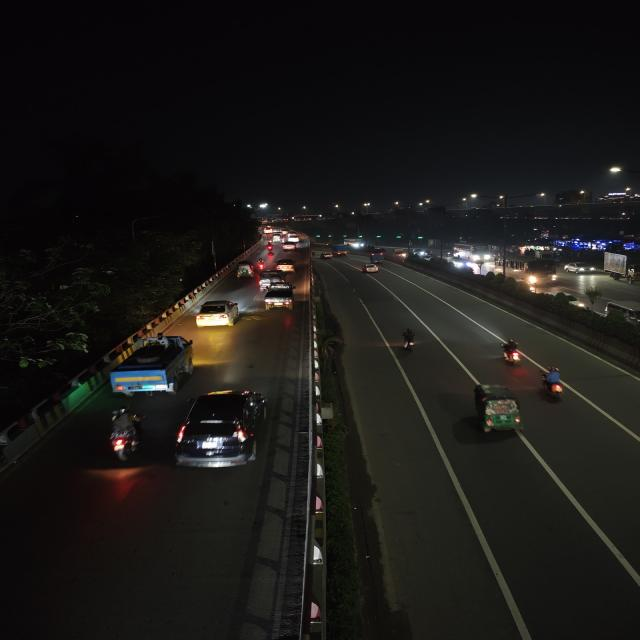bus: (502, 256, 560, 286), (454, 243, 494, 263)
car: (172, 386, 268, 473), (193, 298, 242, 330), (549, 289, 587, 311), (258, 270, 288, 286), (564, 262, 596, 276), (274, 258, 298, 272), (361, 262, 380, 276), (281, 241, 300, 252), (284, 232, 300, 242), (267, 232, 282, 240)
cng: (468, 382, 525, 438), (602, 300, 639, 328), (234, 260, 256, 280)
motorcycle: (104, 407, 148, 465), (535, 366, 573, 404), (494, 335, 528, 371), (396, 327, 422, 355), (256, 257, 267, 270), (265, 243, 276, 255)
pickup_van: (108, 334, 198, 396), (264, 281, 296, 310)
truck: (604, 249, 640, 281), (333, 244, 349, 257), (368, 253, 386, 264)
